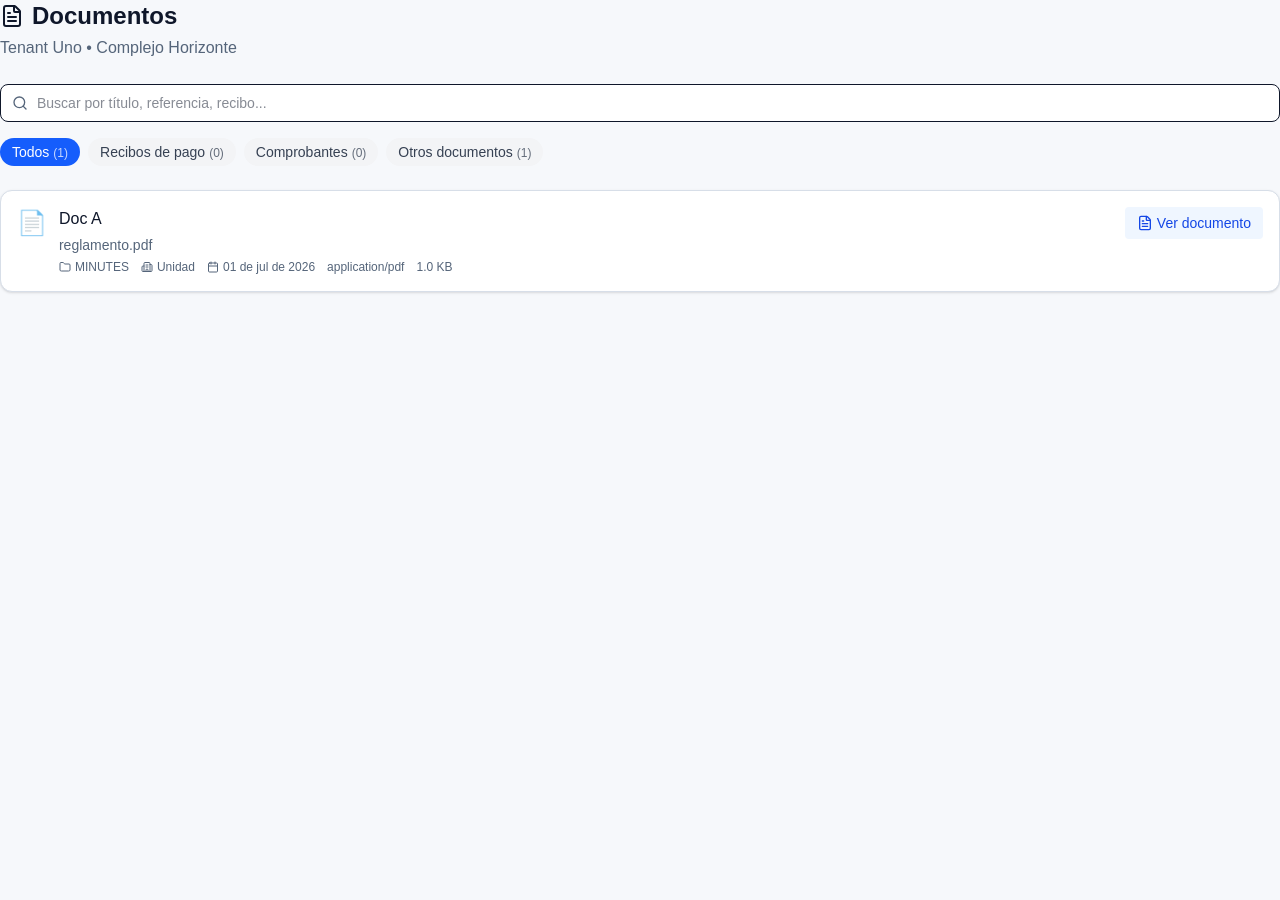
Test case: ResidentDocumentsPage › Stale response protection › closing modal before resolution invalidates pending request
The width and height of the screenshot is (1280, 900).
Click the button with aria-label "ver documento doc a" at {"x": 1194, "y": 223}, box x1=1125 y1=207 x2=1263 y2=239
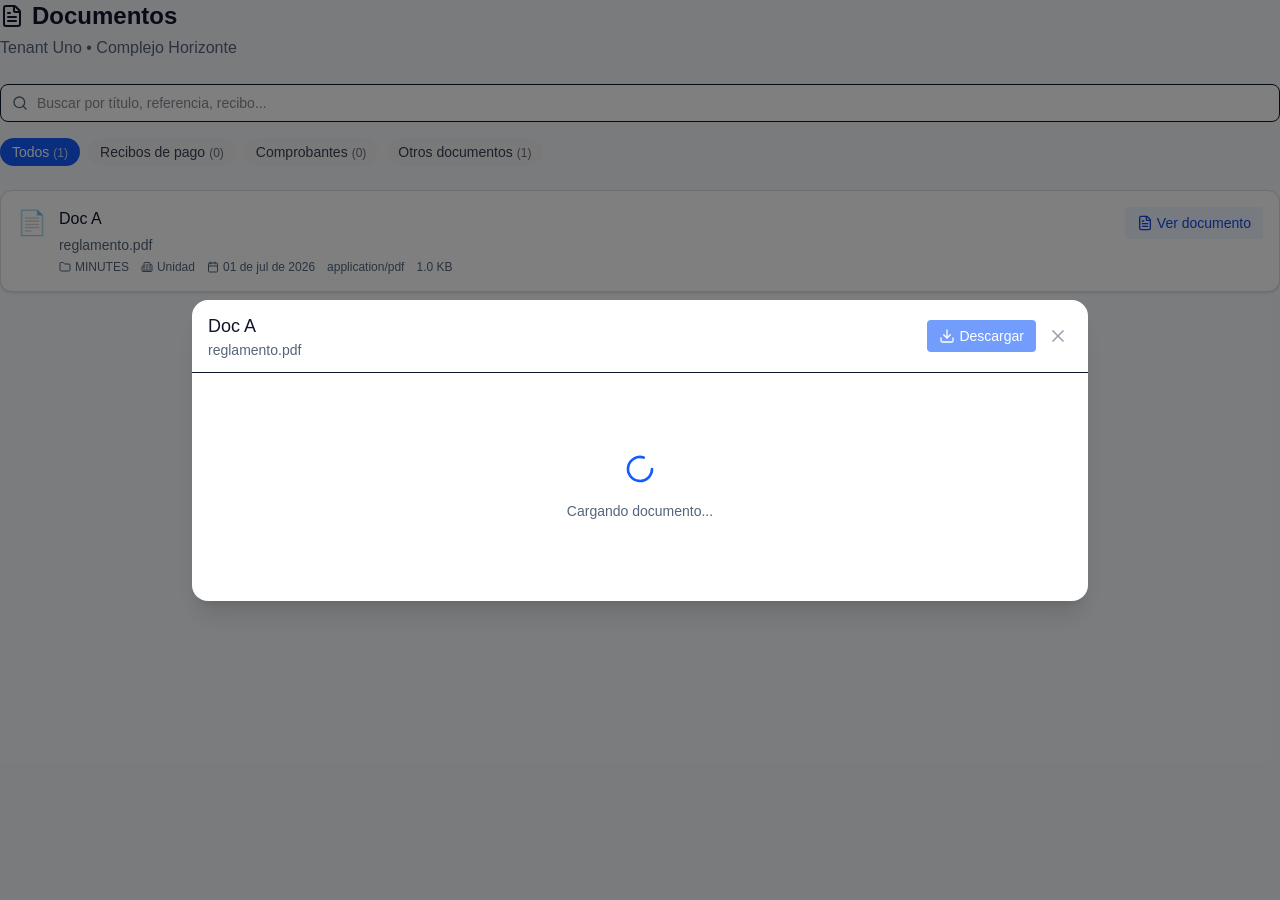
// Close modal while request is pending
Press Escape
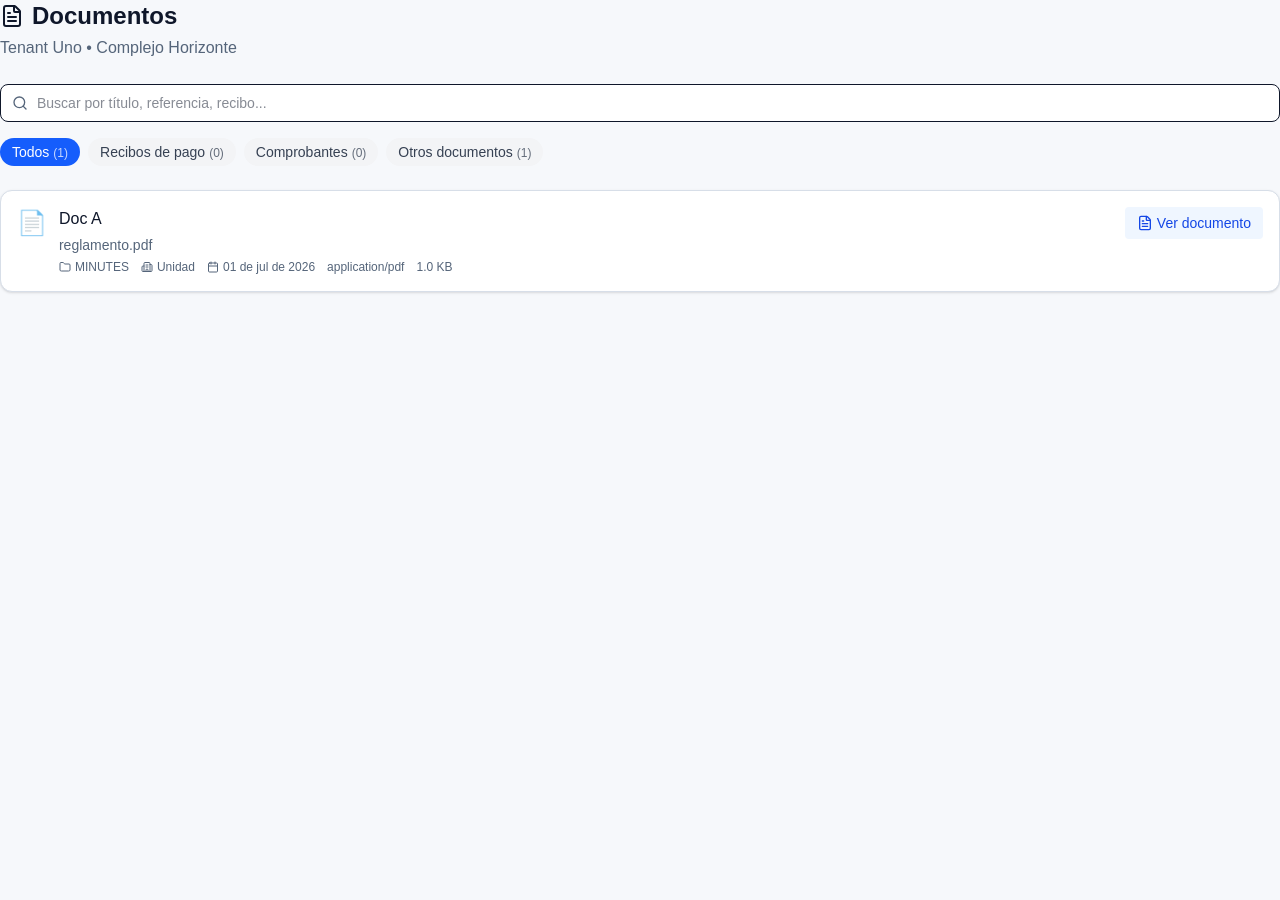
Expected: the dialog is gone
Expected: the text "Cargando documento..." is gone
